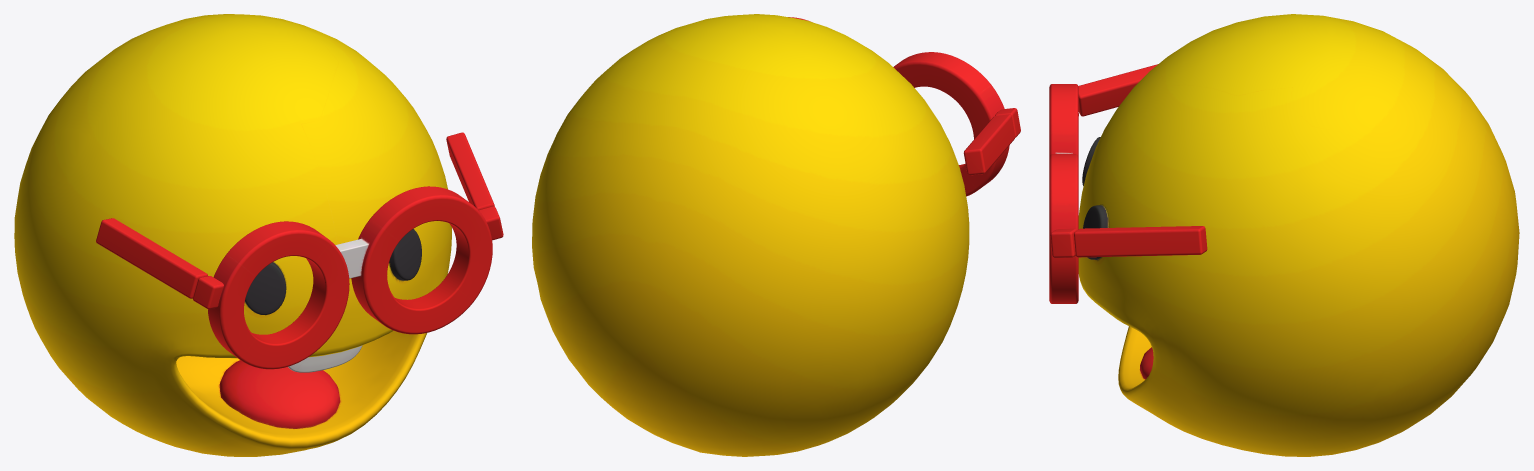
3 views of the same model, side by side, from view 1: azimuth 30°, elevation 25°; view 2: azimuth 150°, elevation 25°; view 3: azimuth 270°, elevation 25° (orthographic).
Visible parts, largest first — view 1: mesh_id12; view 2: mesh_id12; view 3: mesh_id12.
Part boxes in pixels (<box>): mesh_id12: <box>14,14,503,456</box>; mesh_id12: <box>532,14,1020,456</box>; mesh_id12: <box>1049,14,1519,456</box>.
Bounding box in the file's own units: 93.51 × 94.42 × 100.
1 material, 1 textured.
